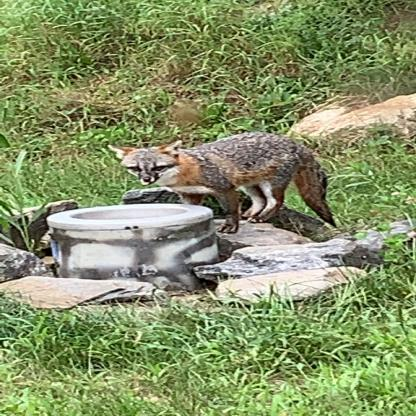zorro: (102, 128, 352, 242)
